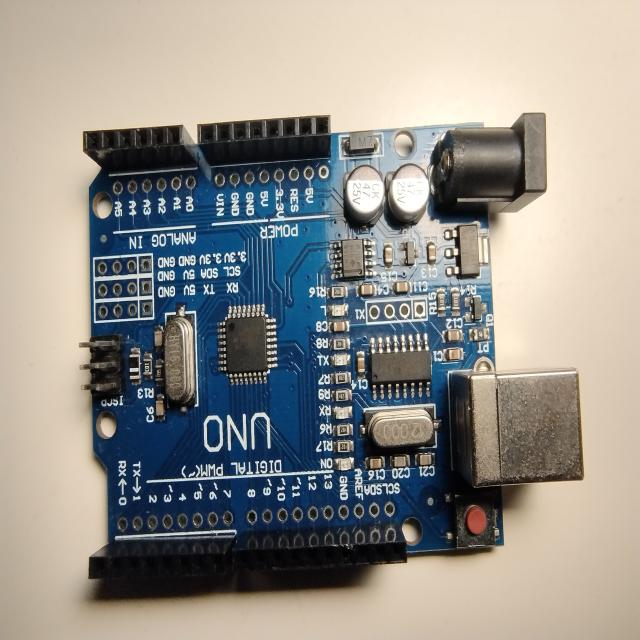arduino: (68, 112, 587, 597)
